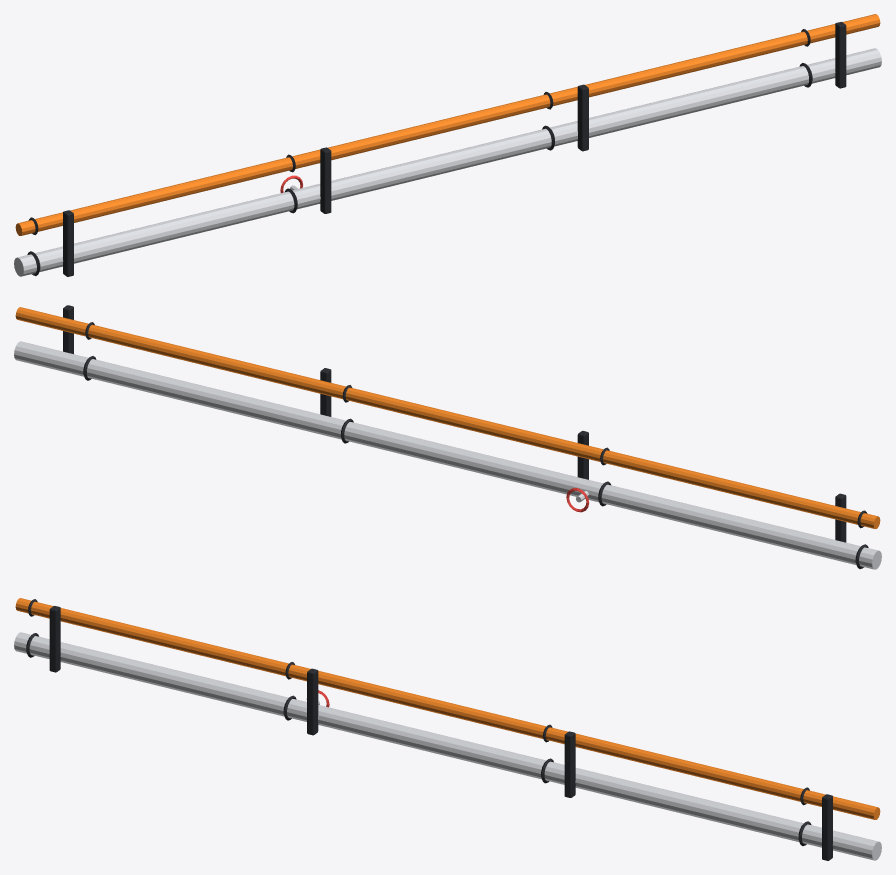
Rendered from SW_Pipes.glb.
The picture shows the model from 3 angles, top to bottom: view 1: azimuth 30°, elevation 25°; view 2: azimuth 150°, elevation 25°; view 3: azimuth 330°, elevation 25°; orthographic projection.
Visible parts, largest first — view 1: Pipes; view 2: Pipes; view 3: Pipes.
Boxes of the visible parts, x1,y1,x2,y2 form: Pipes: (14,14,881,276); Pipes: (14,305,881,569); Pipes: (14,598,881,860).
Size of the model in its own units: 6 by 0.42 by 0.28.
Materials: 2 (1 with a texture image).
